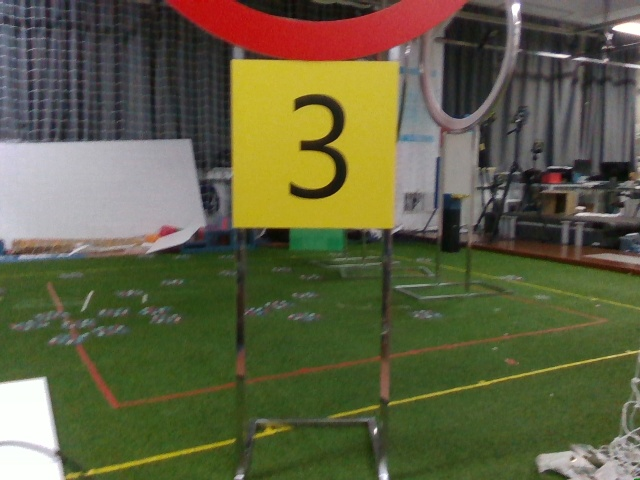target: (235, 66, 398, 231)
